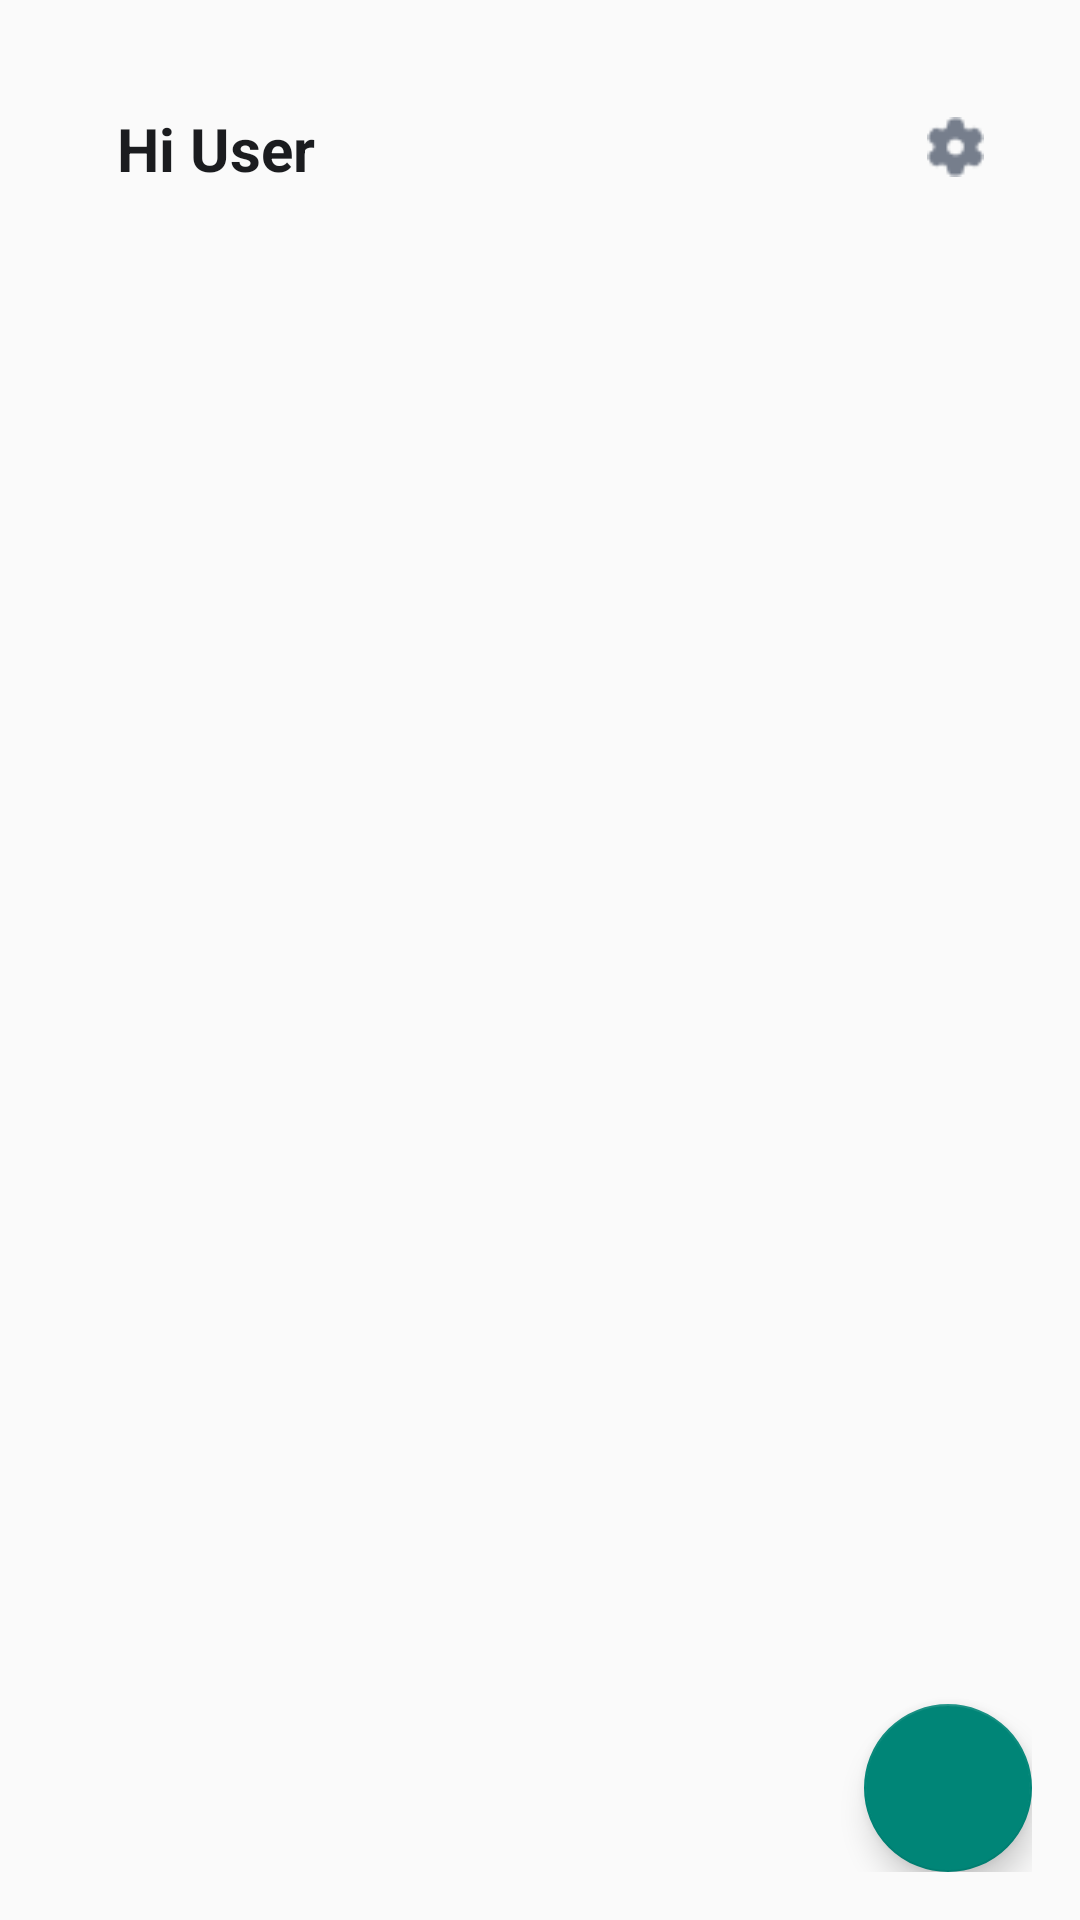

Where icons sit on this 1080px×1920px app screen, as BBox(x1, y1, x2, y2):
Setting Icon: BBox(927, 117, 984, 177)
